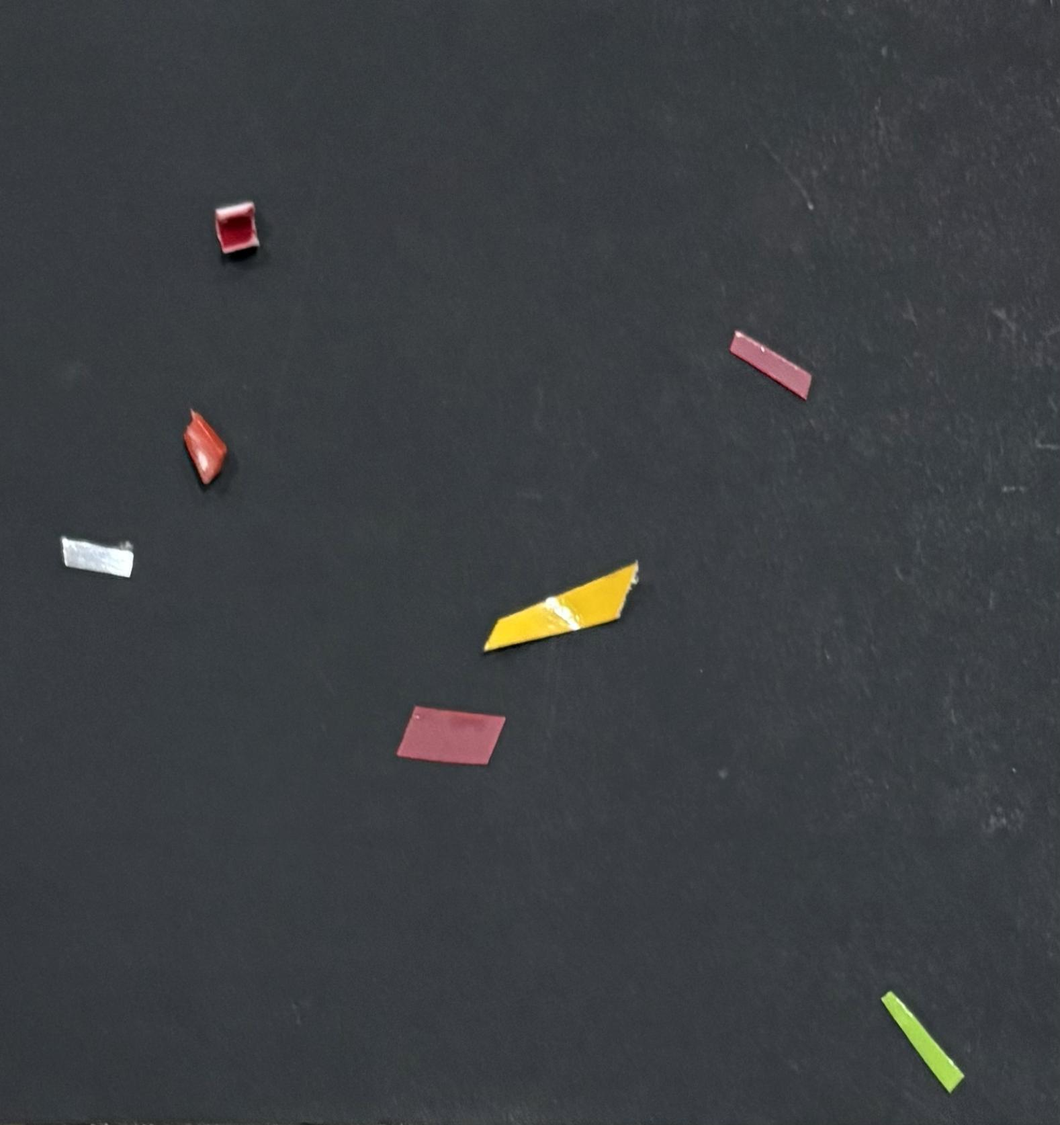Microplastic Particle: (463, 571, 705, 659), (383, 703, 549, 789), (880, 977, 987, 1100), (710, 320, 831, 426), (47, 524, 172, 591), (171, 398, 239, 504), (195, 194, 272, 283)
